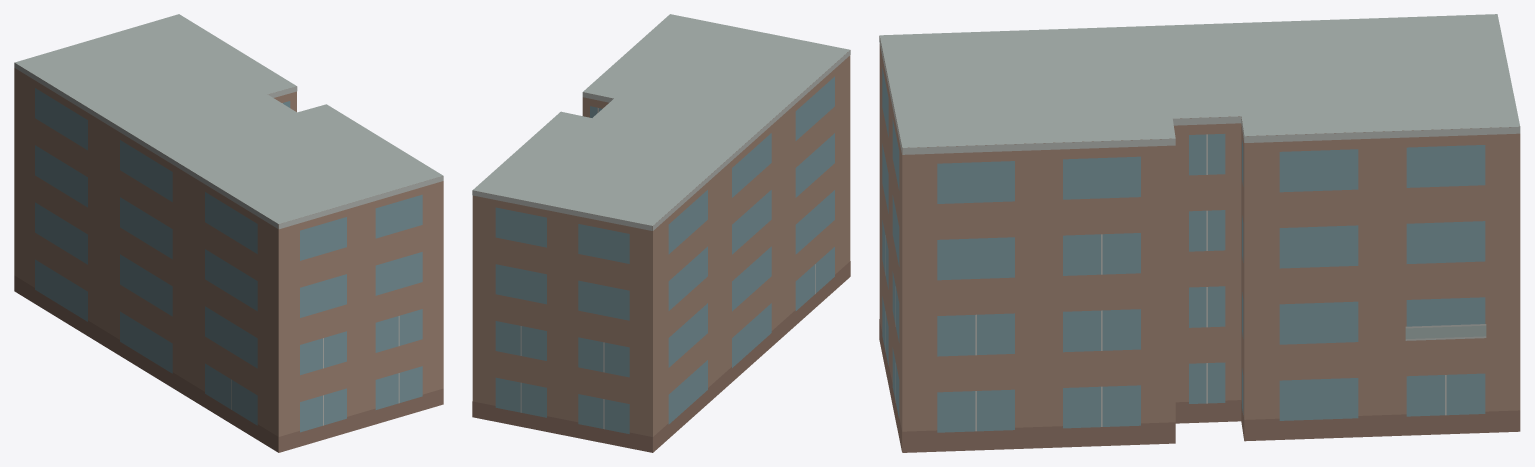
The model's file is survey-upis-32702081.glb.
The picture shows the model from 3 angles, left to right: view 1: azimuth 30°, elevation 25°; view 2: azimuth 150°, elevation 25°; view 3: azimuth 270°, elevation 25°; orthographic projection. The views are drawn at different scales.
Parts seen in each view (by area): view 1: survey-upis-32702081.tmp; view 2: survey-upis-32702081.tmp; view 3: survey-upis-32702081.tmp.
Part boxes in pixels (x1,y1,x2,y2): survey-upis-32702081.tmp: (14,14,443,452); survey-upis-32702081.tmp: (472,14,850,452); survey-upis-32702081.tmp: (879,14,1520,452).
Size of the model in its own units: 10.09 by 10.7 by 20.39.
